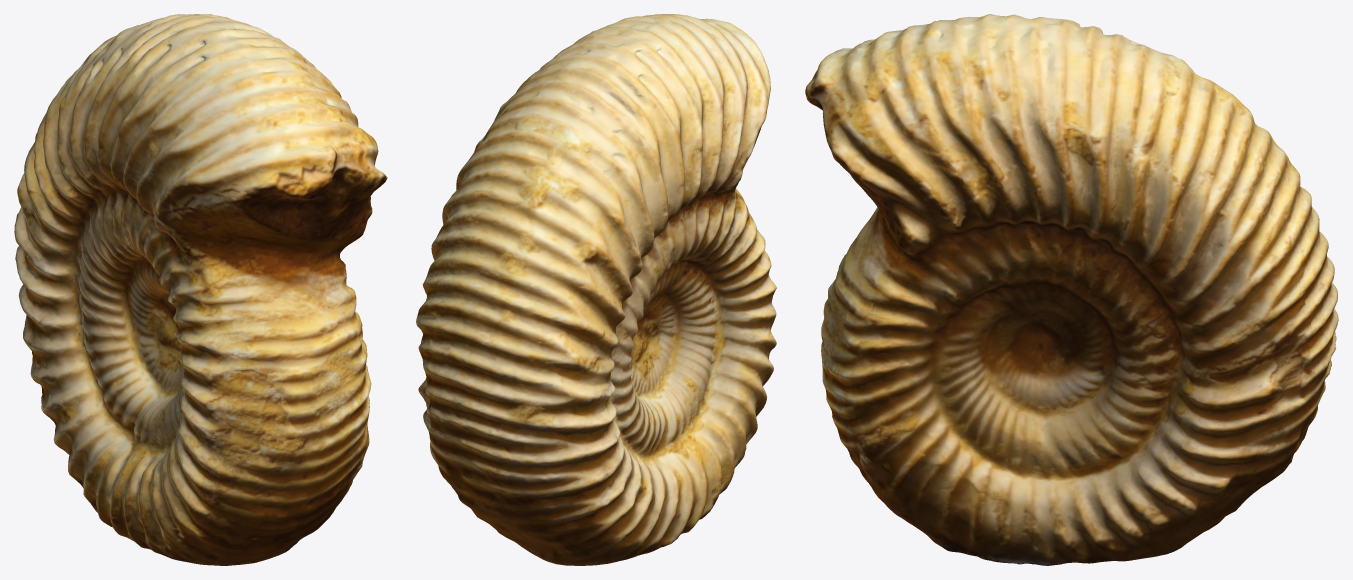
Rendered from fossil-2.glb.
3 renders of one model, left to right at view 1: azimuth 30°, elevation 25°; view 2: azimuth 150°, elevation 25°; view 3: azimuth 270°, elevation 25°, orthographic. The views are drawn at different scales.
Visible parts, largest first — view 1: Mesh_0_Part_0; view 2: Mesh_0_Part_0; view 3: Mesh_0_Part_0.
Part boxes in pixels (x1,y1,x2,y2): Mesh_0_Part_0: [14, 14, 387, 565]; Mesh_0_Part_0: [416, 14, 776, 565]; Mesh_0_Part_0: [805, 14, 1338, 565].
Size of the model in its own units: 0.0771 by 0.171 by 0.163.
1 material, 1 textured.
